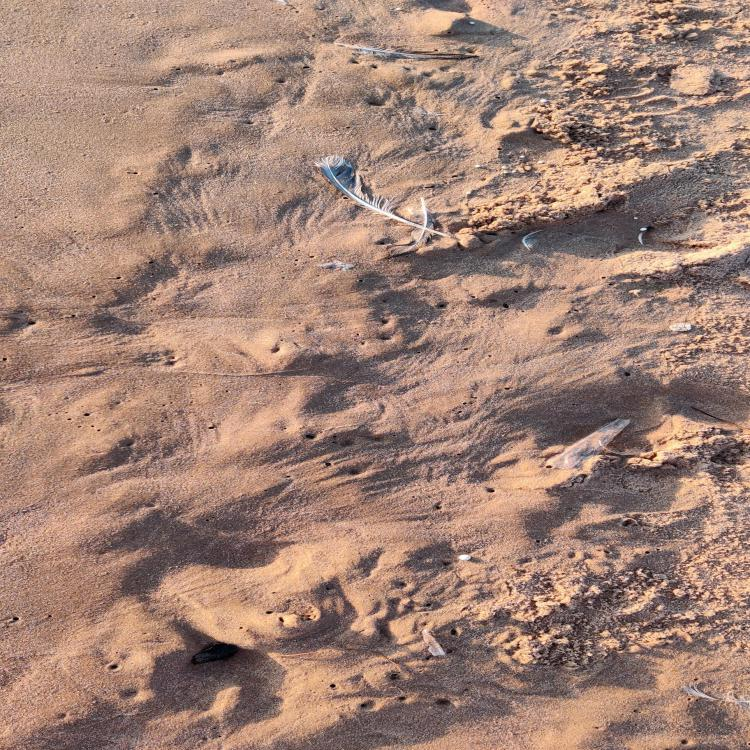Other plastic wrapper: (420, 629, 443, 656)
Plastic film: (546, 419, 631, 469)
